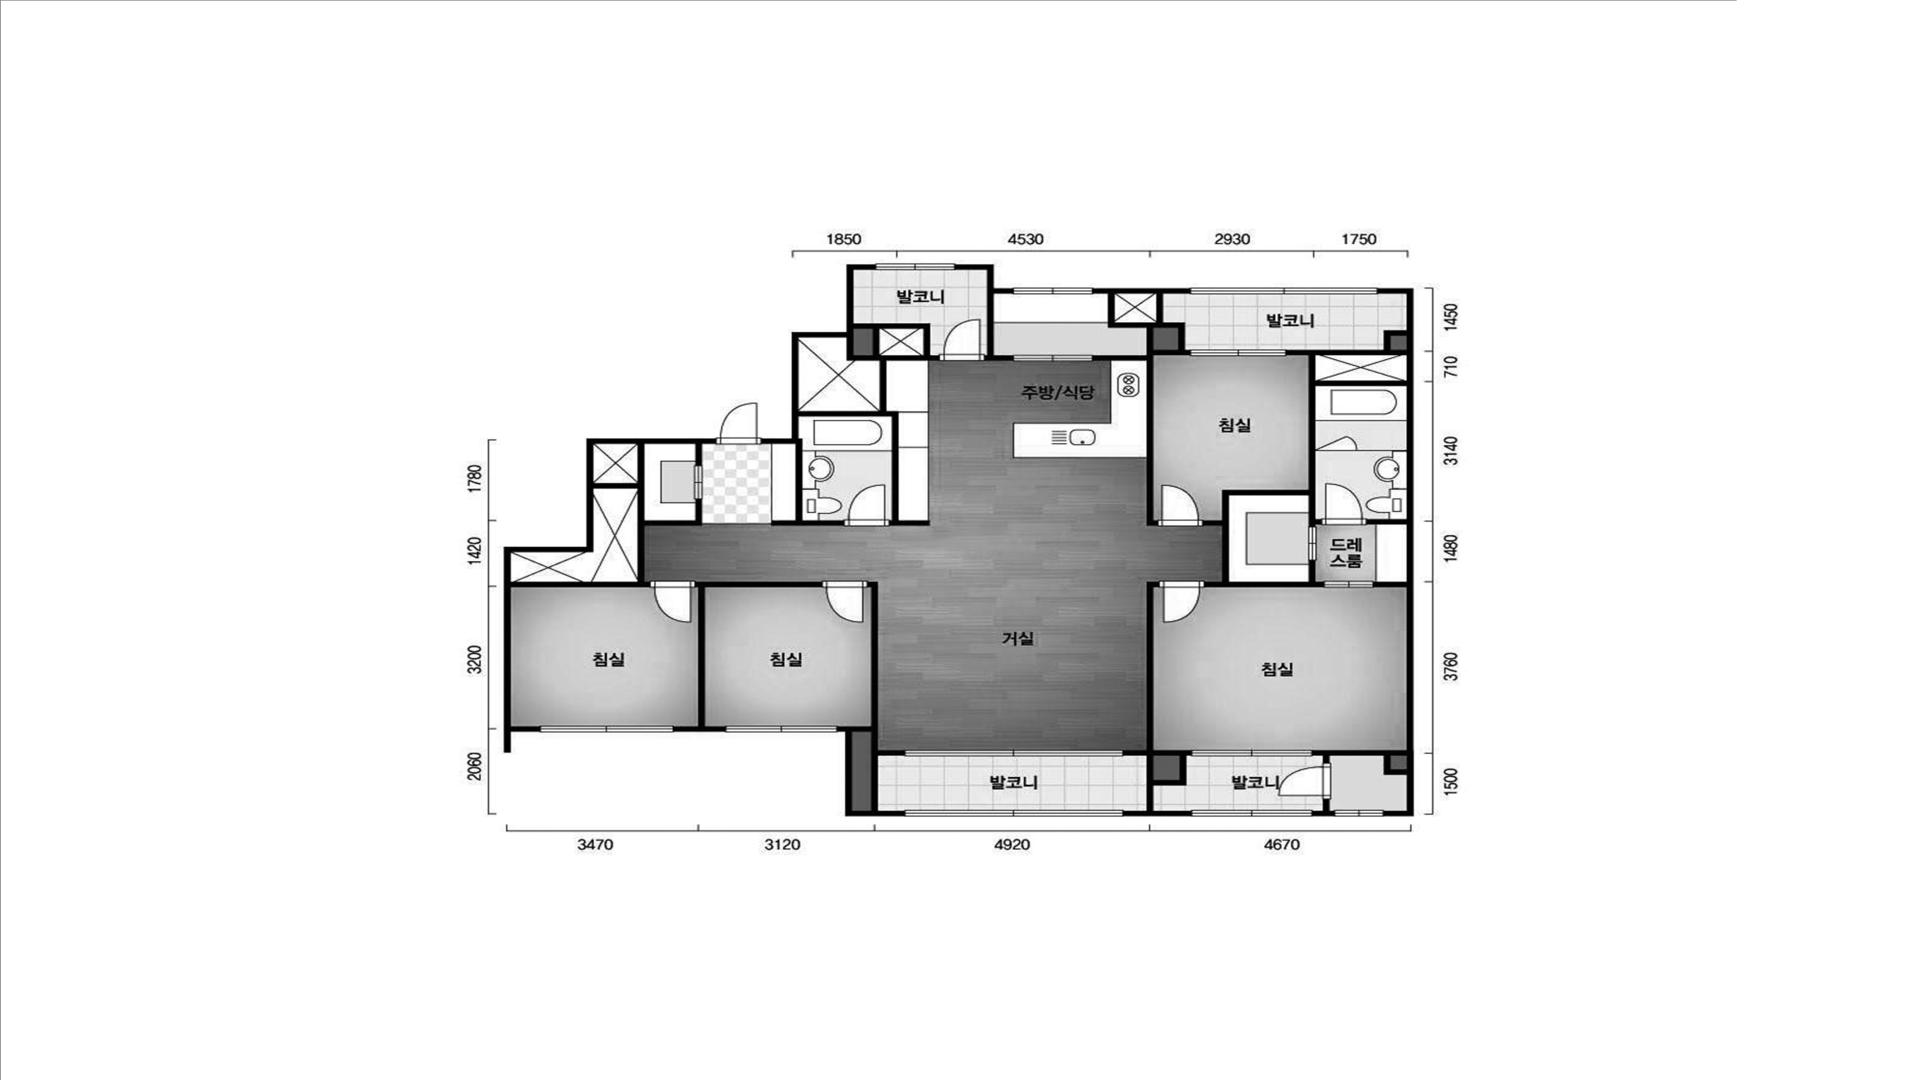door: (1158, 580, 1205, 624), (844, 484, 890, 527), (939, 318, 985, 361), (822, 580, 868, 624), (1158, 483, 1204, 526), (715, 402, 762, 444), (1320, 483, 1367, 525), (650, 580, 695, 624), (1278, 764, 1332, 799), (1316, 435, 1358, 451), (1323, 580, 1374, 588)
wall: (504, 438, 715, 732), (1204, 330, 1406, 587), (510, 444, 702, 587), (799, 338, 939, 526), (1093, 294, 1189, 526), (762, 264, 874, 444), (1378, 289, 1414, 816), (695, 582, 822, 727), (1124, 582, 1192, 811), (852, 582, 905, 811), (771, 439, 843, 526), (837, 727, 905, 816), (855, 323, 931, 355), (1312, 750, 1407, 775), (985, 294, 1011, 361), (956, 264, 1013, 294), (1093, 289, 1189, 294), (1124, 811, 1191, 816), (674, 727, 724, 732), (1374, 582, 1407, 588), (1367, 520, 1407, 525), (695, 444, 702, 465), (1312, 811, 1335, 816), (1323, 799, 1329, 811)
window: (905, 749, 1124, 757), (905, 810, 1124, 816), (1189, 287, 1378, 294), (1192, 749, 1312, 757), (724, 725, 837, 733), (539, 725, 674, 732), (1191, 810, 1312, 816), (1189, 349, 1287, 356), (1011, 355, 1093, 361), (874, 264, 956, 270), (1013, 287, 1093, 294), (1335, 810, 1383, 816)
